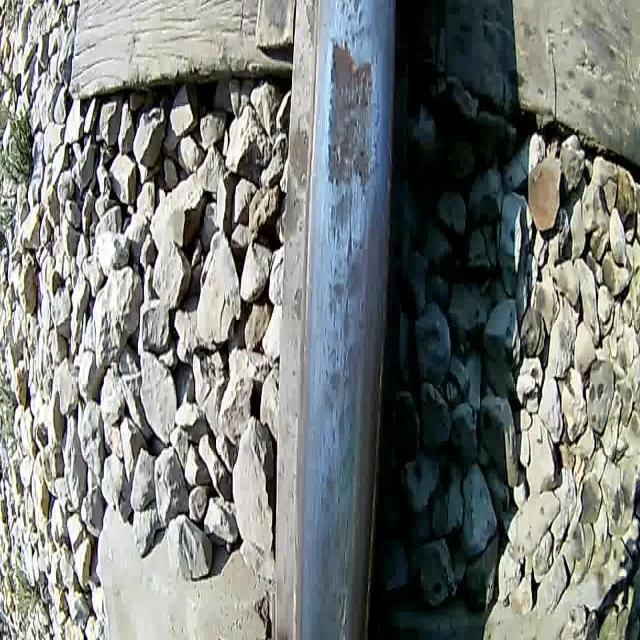Spallings: (324, 35, 379, 198)
Squats: (317, 186, 371, 518)
